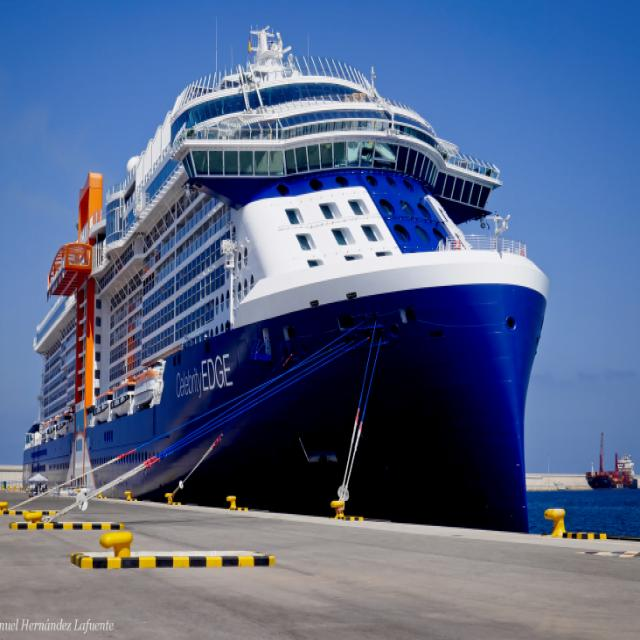cruises: (22, 23, 554, 557)
